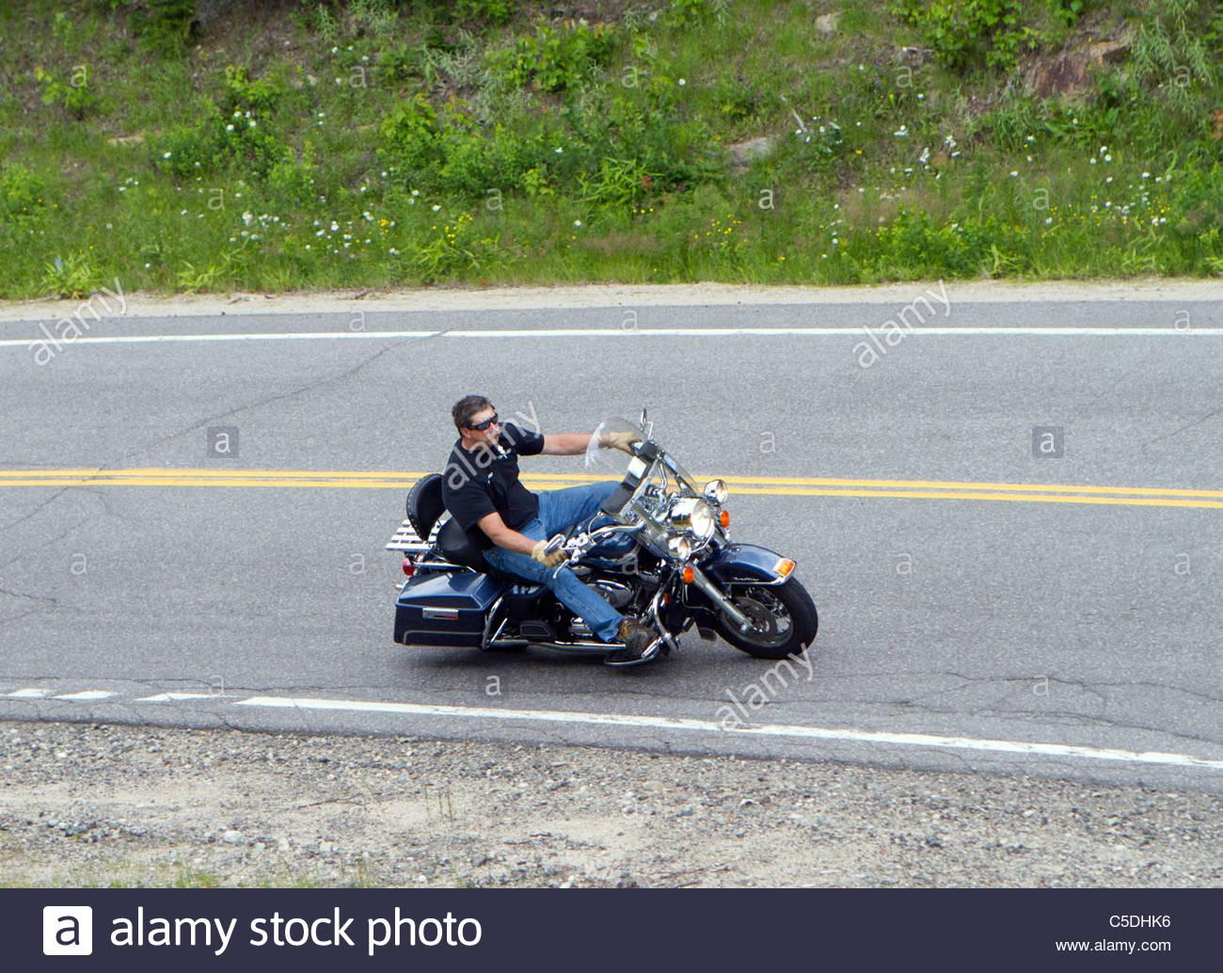nohelmet: (431, 380, 516, 468)
